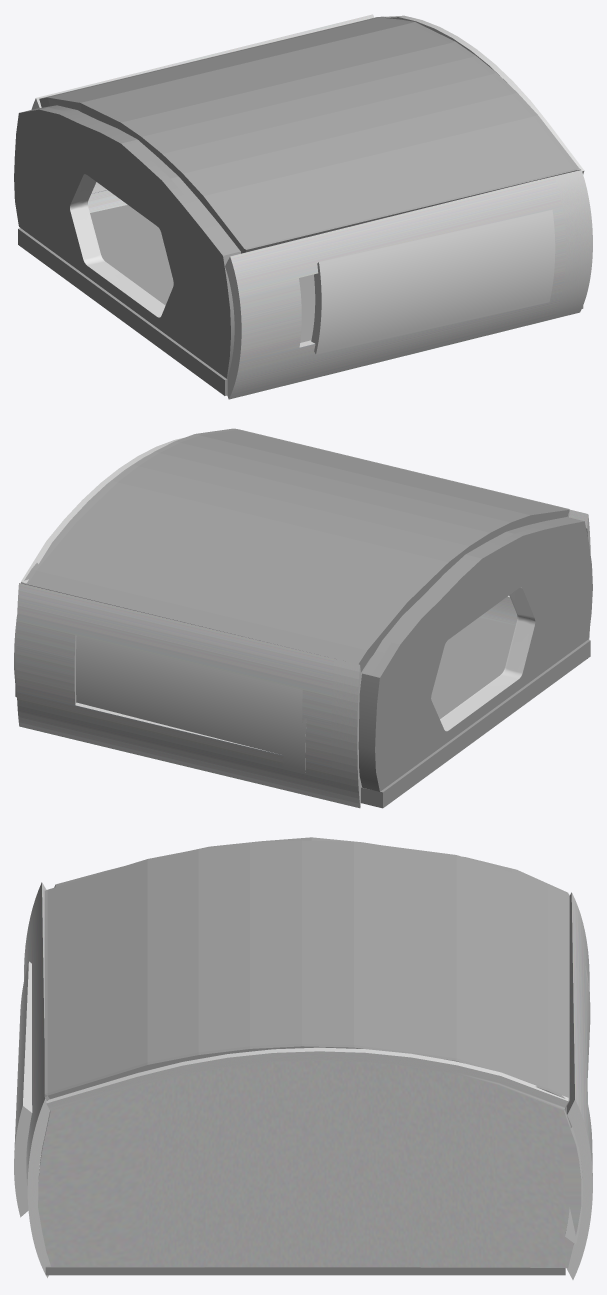
File: room_0318.fbx
3 renders of one model, top to bottom at view 1: azimuth 30°, elevation 25°; view 2: azimuth 150°, elevation 25°; view 3: azimuth 270°, elevation 25°, orthographic. The views are drawn at different scales.
Visible parts, largest first — view 1: pasted__important_cell_origin, pasted__polySurface1, polySurface8, pasted__pCube1, base, pasted__pasted__polySurface1, polySurface5; view 2: pasted__important_cell_origin, pasted__pasted__polySurface1, polySurface8, pasted__pasted__pCube1, base, polySurface5, pasted__polySurface1; view 3: pasted__important_cell_origin, polySurface5, pasted__pasted__polySurface1, pasted__polySurface1, base, pasted__pCube1, polySurface8, pasted__pasted__pCube1.
Boxes of the visible parts, bbox=[...] form: pasted__important_cell_origin: bbox=[39, 16, 580, 253]; pasted__polySurface1: bbox=[225, 169, 592, 399]; polySurface8: bbox=[14, 105, 240, 378]; pasted__pCube1: bbox=[311, 209, 555, 354]; base: bbox=[18, 205, 583, 395]; pasted__pasted__polySurface1: bbox=[31, 14, 373, 212]; polySurface5: bbox=[371, 15, 584, 174]; pasted__important_cell_origin: bbox=[22, 428, 569, 672]; pasted__pasted__polySurface1: bbox=[16, 583, 361, 808]; polySurface8: bbox=[358, 517, 592, 791]; pasted__pasted__pCube1: bbox=[15, 635, 306, 773]; base: bbox=[360, 617, 590, 808]; polySurface5: bbox=[14, 438, 182, 682]; pasted__polySurface1: bbox=[479, 509, 590, 658]; pasted__important_cell_origin: bbox=[44, 840, 569, 1109]; polySurface5: bbox=[38, 1047, 581, 1267]; pasted__pasted__polySurface1: bbox=[566, 892, 592, 1279]; pasted__polySurface1: bbox=[24, 882, 50, 1277]; base: bbox=[45, 1265, 565, 1275]; pasted__pCube1: bbox=[14, 961, 32, 1217]; polySurface8: bbox=[54, 837, 568, 893]; pasted__pasted__pCube1: bbox=[565, 973, 590, 1244].
Size of the model in its own units: 18.23 by 8.83 by 20.04.
